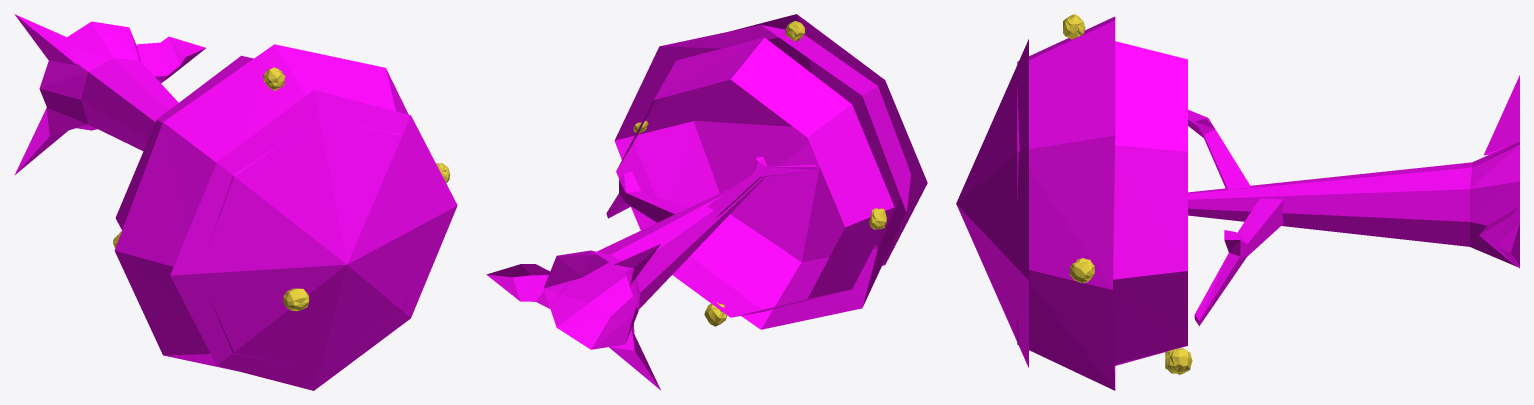
The model's file is lemontree.obj.
3 views of the same model, side by side, from view 1: azimuth 30°, elevation 25°; view 2: azimuth 150°, elevation 25°; view 3: azimuth 270°, elevation 25° (orthographic). The views are drawn at different scales.
Visible parts, largest first — view 1: lemontree; view 2: lemontree; view 3: lemontree.
Part boxes in pixels (x1=…): lemontree: x1=14, y1=14, x2=457, y2=390; lemontree: x1=486, y1=14, x2=927, y2=390; lemontree: x1=956, y1=14, x2=1519, y2=390.
Size of the model in its own units: 1.79 by 1.78 by 2.48.
